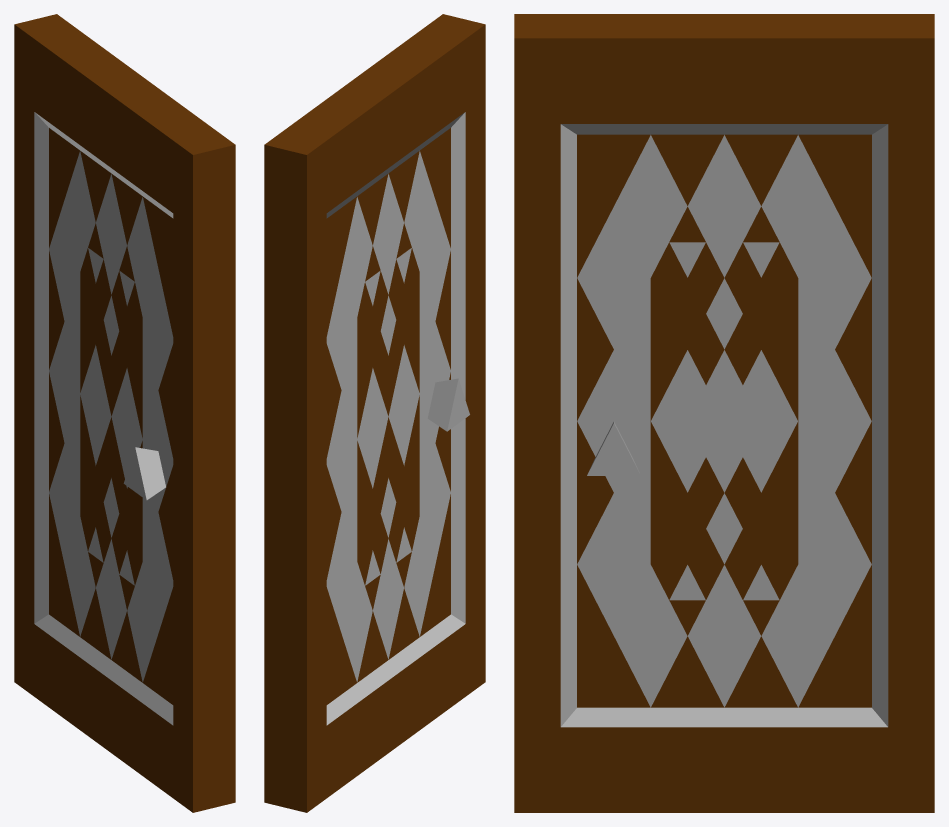
Rendered from Door.fbx.
3 views of the same model, side by side, from view 1: azimuth 30°, elevation 25°; view 2: azimuth 150°, elevation 25°; view 3: azimuth 270°, elevation 25° (orthographic). The views are drawn at different scales.
Visible parts, largest first — view 1: Door; view 2: Door; view 3: Door.
Boxes of the visible parts, x1=… form: Door: x1=14, y1=14, x2=235, y2=812; Door: x1=264, y1=14, x2=485, y2=812; Door: x1=514, y1=14, x2=934, y2=812.
Size of the model in its own units: 47.48 by 406 by 200.
